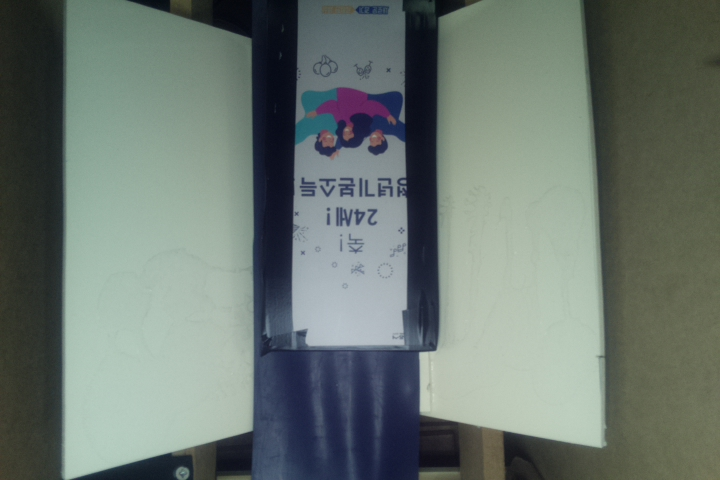book: (257, 1, 443, 354)
